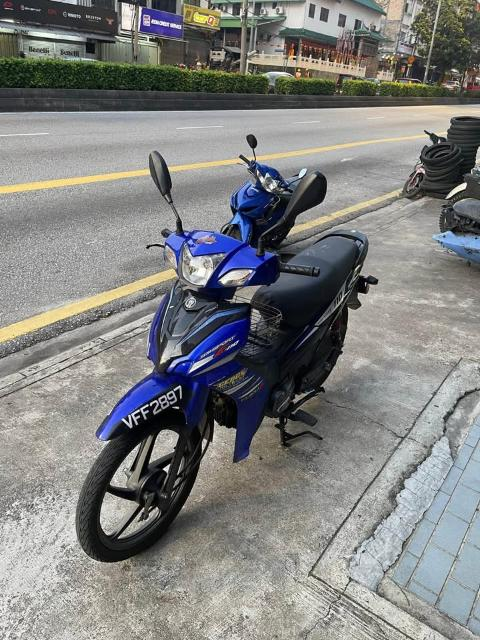License_Plate: (119, 385, 189, 432)
motorcycle: (76, 135, 380, 564)
